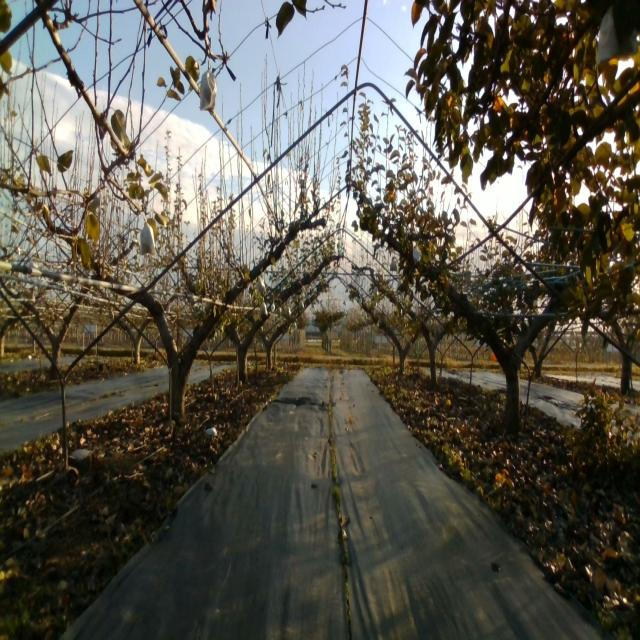pearbags: (198, 60, 216, 116), (138, 214, 156, 256)
